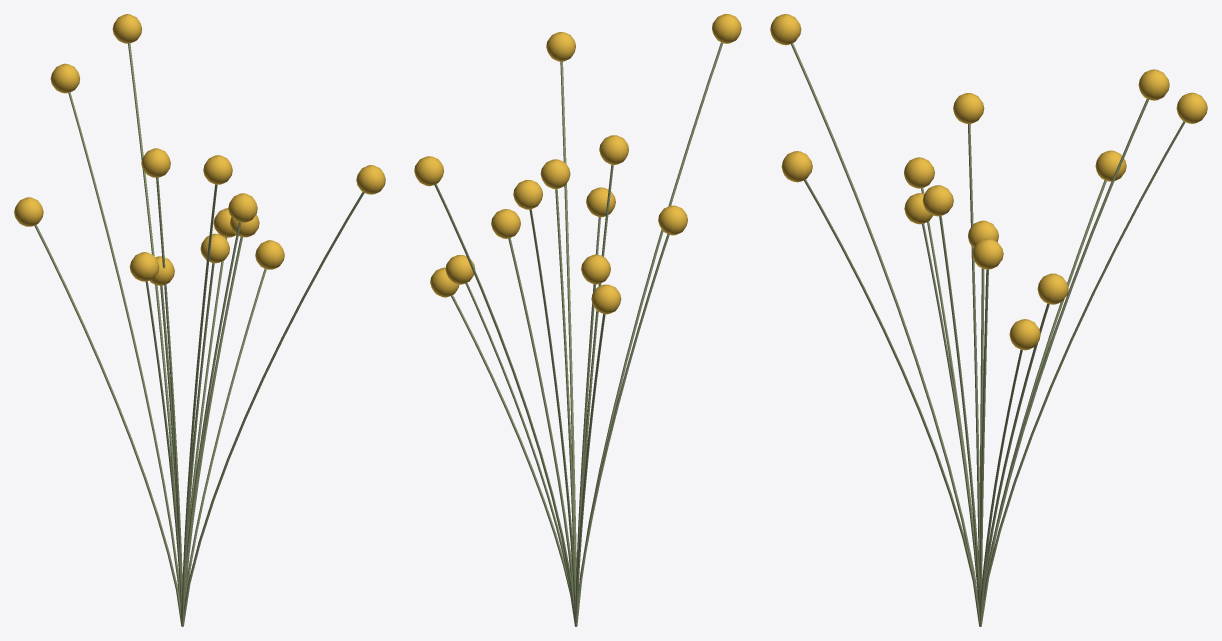
The model's file is billy-2.glb.
The picture shows the model from 3 angles, left to right: view 1: azimuth 30°, elevation 25°; view 2: azimuth 150°, elevation 25°; view 3: azimuth 270°, elevation 25°; orthographic projection. The views are drawn at different scales.
Parts seen in each view (by area): view 1: billy-stems, billy-leaves; view 2: billy-stems, billy-leaves; view 3: billy-stems, billy-leaves.
Part boxes in pixels (x1,y1,x2,y2): billy-stems: [34, 43, 364, 626]; billy-leaves: [14, 14, 385, 285]; billy-stems: [434, 42, 723, 626]; billy-leaves: [414, 14, 741, 314]; billy-stems: [791, 43, 1185, 626]; billy-leaves: [770, 14, 1207, 350].
Size of the model in its own units: 0.2816 by 0.6564 by 0.4476.
